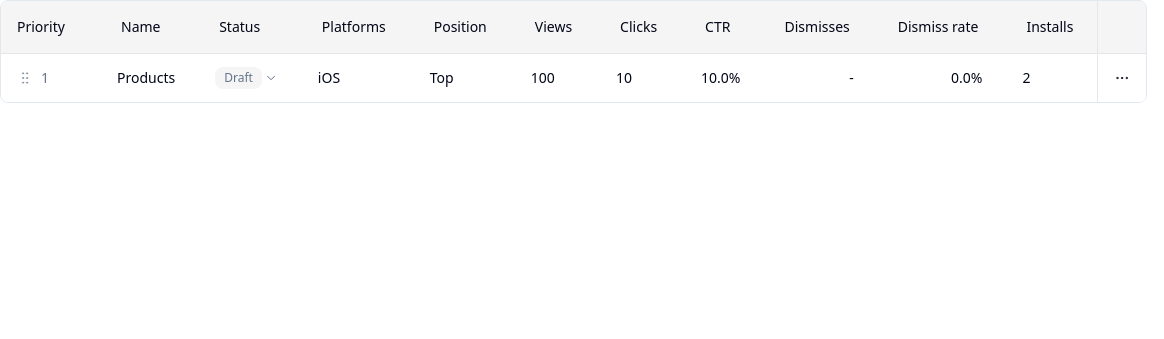
it: SmartBannersTable › offers a draft banner its actions
Click the button named "Actions for Products" at (1122, 78), box left=1106, top=62, right=1138, bottom=94
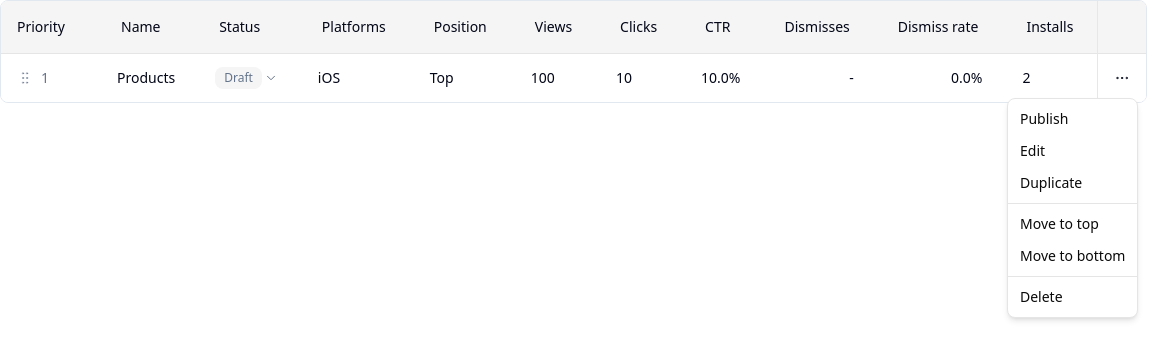
Now the menu items read "Publish", "Edit", "Duplicate", "Move to top", "Move to bottom", "Delete", in this order, box left=1020, top=109, right=1068, bottom=128; left=1020, top=141, right=1045, bottom=160; left=1020, top=173, right=1082, bottom=192; left=1020, top=214, right=1099, bottom=233; left=1020, top=246, right=1126, bottom=265; left=1020, top=287, right=1063, bottom=306
